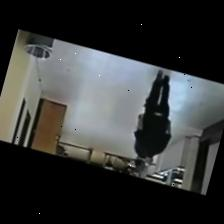person: (133, 70, 170, 164)
